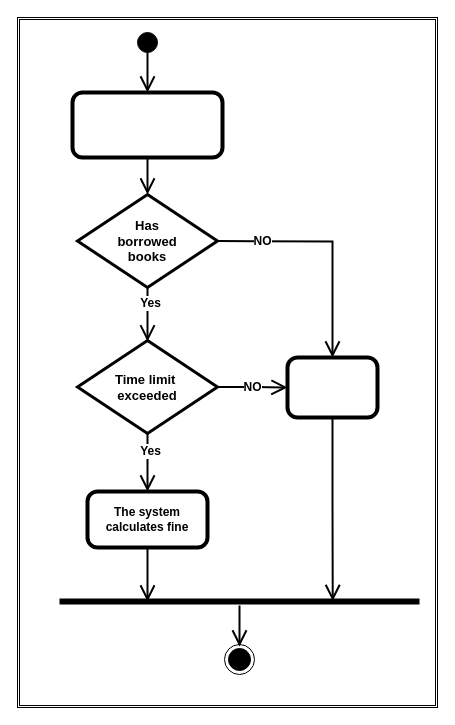
Image size: 455x725. Some labels were removed from this diagram. The shapes that lost their labels are listed below. From the top down, each one's centre as x and y in pixels, then its label:
pixel 147 125: The user clicks the "Calculate Fine" button
pixel 332 387: Fine can not be calculated
